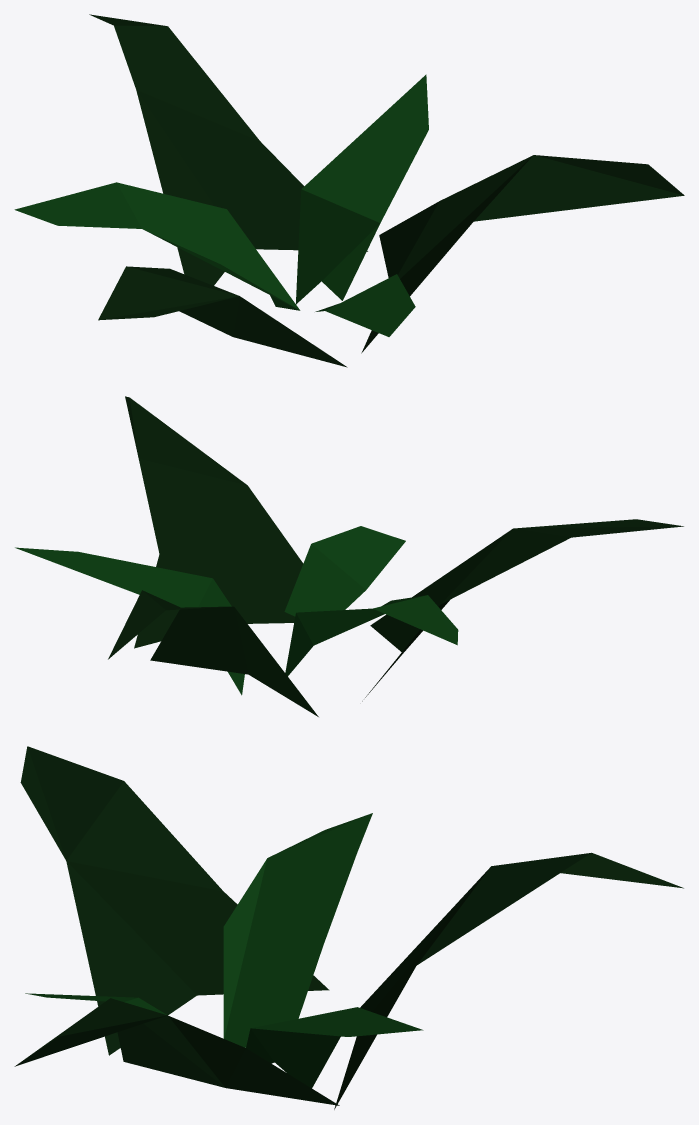
The model's file is Grass1.obj.
3 views of the same model, one above another, from view 1: azimuth 30°, elevation 25°; view 2: azimuth 150°, elevation 25°; view 3: azimuth 270°, elevation 25° (orthographic). The views are drawn at different scales.
Parts seen in each view (by area): view 1: Plane; view 2: Plane; view 3: Plane.
Boxes of the visible parts, bbox=[...] form: Plane: bbox=[14, 14, 684, 367]; Plane: bbox=[15, 396, 683, 716]; Plane: bbox=[14, 746, 683, 1109].
Size of the model in its own units: 4.35 by 1.41 by 4.01.
